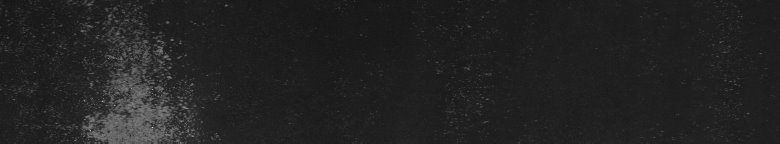kb: (96, 5, 168, 136)
